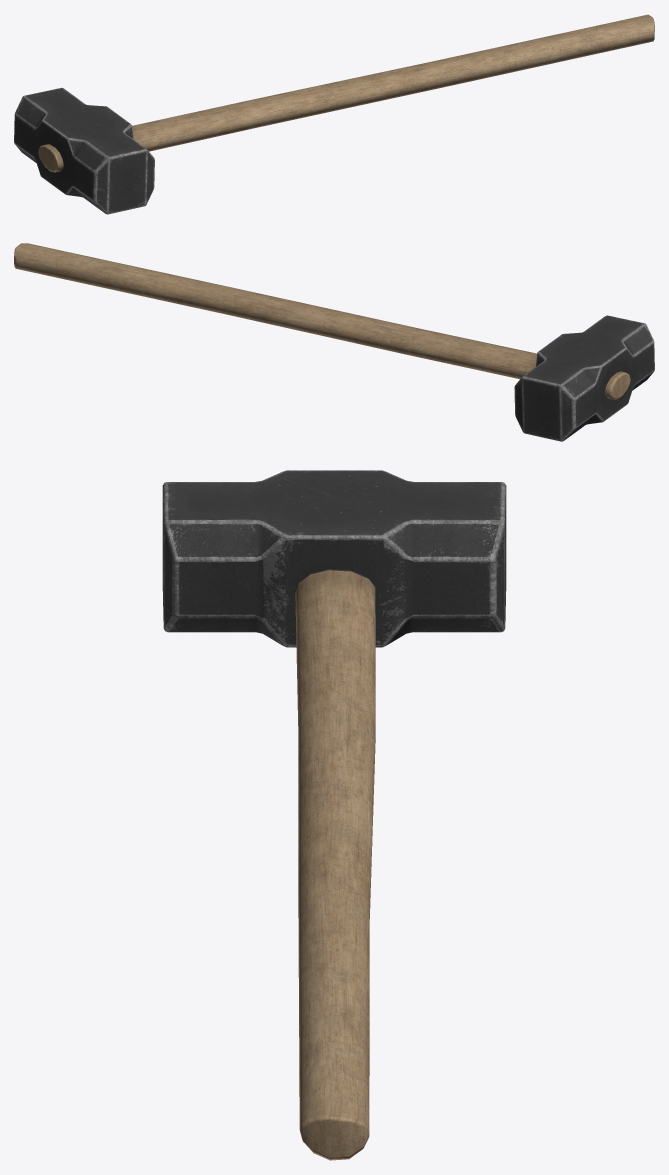
Rendered from Sledge Hammer.fbx.
The picture shows the model from 3 angles, top to bottom: view 1: azimuth 30°, elevation 25°; view 2: azimuth 150°, elevation 25°; view 3: azimuth 270°, elevation 25°; orthographic projection. The views are drawn at different scales.
Visible parts, largest first — view 1: SledgeHammer_SledgeHammer_0; view 2: SledgeHammer_SledgeHammer_0; view 3: SledgeHammer_SledgeHammer_0.
Part boxes in pixels (x1,y1,x2,y2): SledgeHammer_SledgeHammer_0: (14,14,654,214); SledgeHammer_SledgeHammer_0: (14,243,654,441); SledgeHammer_SledgeHammer_0: (162,470,506,1160).
Bounding box in the file's own units: 79.29 × 7.32 × 19.54.
1 material, 1 textured.
